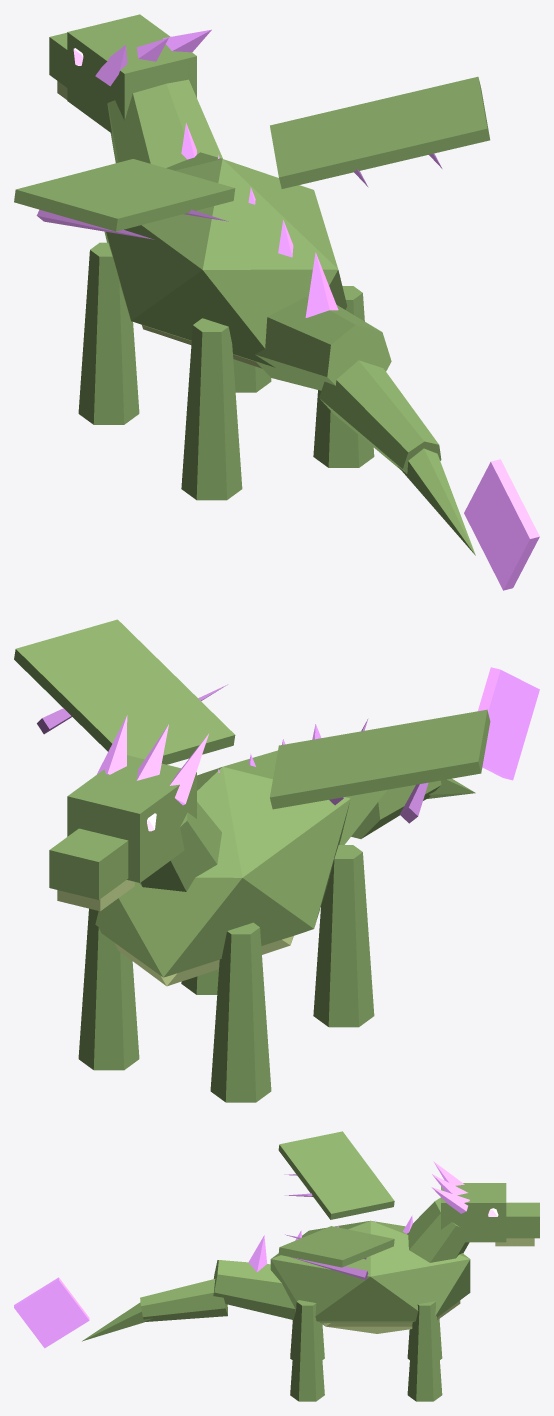
Rendered from dragon_venom.glb.
3 views of the same model, one above another, from view 1: azimuth 30°, elevation 25°; view 2: azimuth 150°, elevation 25°; view 3: azimuth 270°, elevation 25° (orthographic). The views are drawn at different scales.
Visible parts, largest first — view 1: DragonBody, DragonWingR, DragonWingL, DragonLegBL, DragonLegFL, DragonHead, DragonTailA, DragonTailB, DragonNeck, DragonTailFin, DragonLegBR, DragonTailC (+4 smaller); view 2: DragonBody, DragonWingR, DragonWingL, DragonHead, DragonLegFL, DragonLegBL, DragonLegFR, DragonSnout, DragonTailFin, DragonNeck, DragonTailB, DragonBelly (+7 smaller); view 3: DragonBody, DragonWingL, DragonTailA, DragonHead, DragonWingR, DragonTailFin, DragonLegBR, DragonLegFR, DragonTailB, DragonNeck, DragonSnout, DragonBelly (+4 smaller).
Boxes of the visible parts, <box> form: DragonBody: <box>104,152,346,367</box>; DragonWingR: <box>270,76,490,188</box>; DragonWingL: <box>14,159,235,231</box>; DragonLegBL: <box>181,318,242,500</box>; DragonLegFL: <box>78,242,139,424</box>; DragonHead: <box>67,14,196,133</box>; DragonTailA: <box>255,297,391,390</box>; DragonTailB: <box>319,360,441,473</box>; DragonNeck: <box>107,79,222,167</box>; DragonTailFin: <box>464,459,539,590</box>; DragonLegBR: <box>313,286,374,467</box>; DragonTailC: <box>398,448,475,555</box>; DragonBody: <box>95,750,350,977</box>; DragonWingR: <box>14,619,235,764</box>; DragonWingL: <box>270,709,490,809</box>; DragonHead: <box>67,755,196,882</box>; DragonLegFL: <box>210,922,271,1102</box>; DragonLegBL: <box>313,845,374,1027</box>; DragonLegFR: <box>78,908,139,1070</box>; DragonSnout: <box>49,828,128,899</box>; DragonTailFin: <box>478,667,539,780</box>; DragonNeck: <box>139,802,221,891</box>; DragonTailB: <box>351,780,441,838</box>; DragonBelly: <box>114,936,293,986</box>; DragonBody: <box>270,1220,470,1323</box>; DragonWingL: <box>278,1131,394,1219</box>; DragonTailA: <box>213,1260,295,1319</box>; DragonHead: <box>441,1183,506,1242</box>; DragonWingR: <box>278,1226,394,1267</box>; DragonTailFin: <box>14,1277,89,1348</box>; DragonLegBR: <box>290,1300,324,1401</box>; DragonLegFR: <box>407,1301,442,1401</box>; DragonTailB: <box>140,1279,227,1321</box>; DragonNeck: <box>407,1197,469,1262</box>; DragonSnout: <box>506,1202,539,1238</box>; DragonBelly: <box>321,1300,460,1333</box>.
Bounding box in the file's own units: 2.61 × 1.91 × 4.45.
